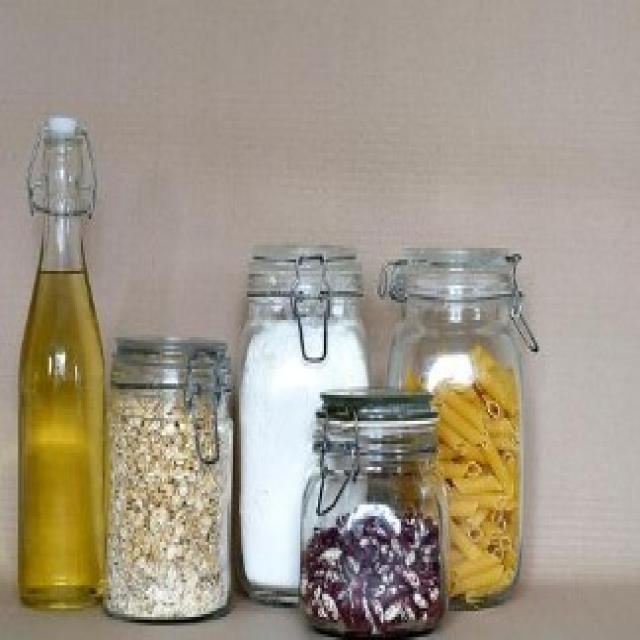electronic: (19, 115, 525, 640)
